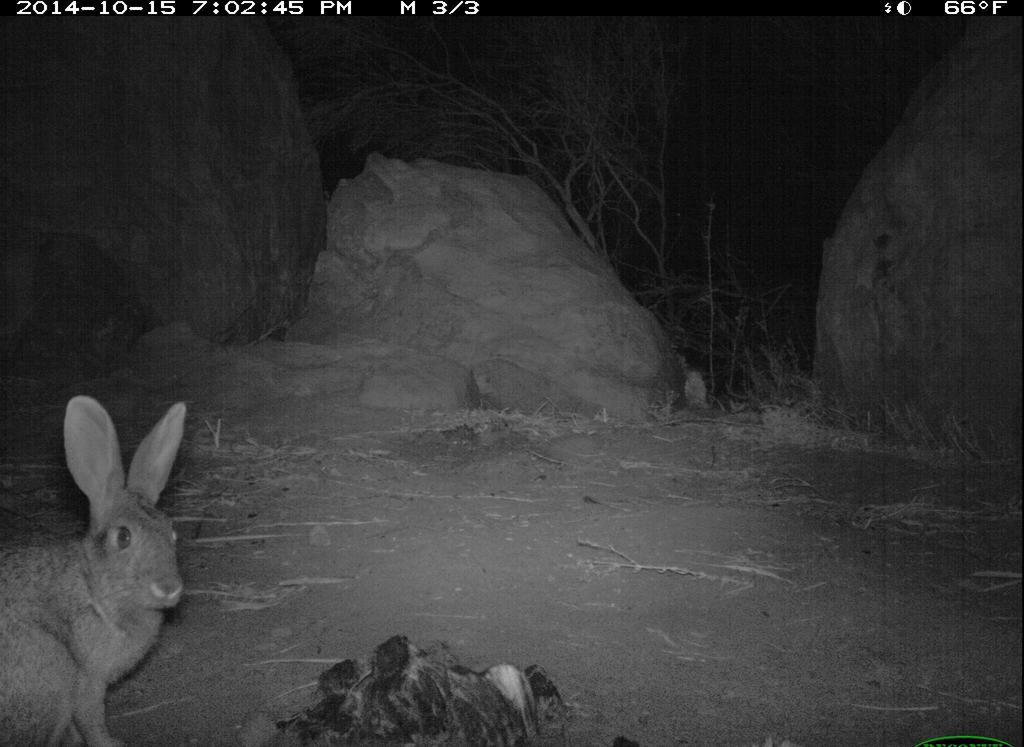rabbit: (1, 376, 195, 747)
